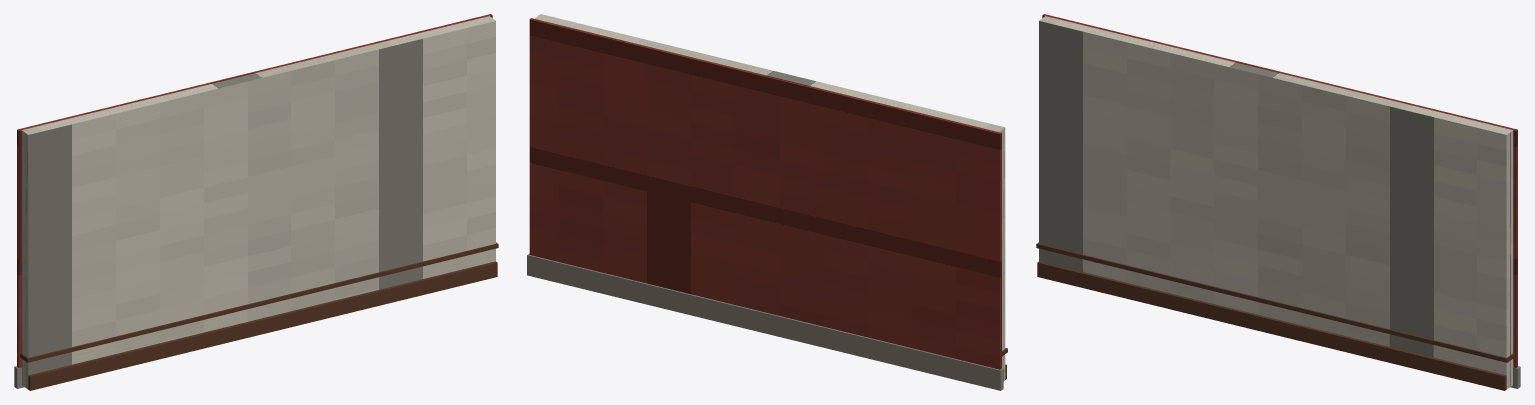
File: back.glb
3 views of the same model, side by side, from view 1: azimuth 30°, elevation 25°; view 2: azimuth 150°, elevation 25°; view 3: azimuth 330°, elevation 25° (orthographic).
Visible parts, largest first — view 1: Box1, Box2, Box6, Box5, Box3; view 2: Box3, Box4, Box1; view 3: Box1, Box2, Box5, Box6, Box3.
Part boxes in pixels (box(x1,y1,x2,y2)): Box1: box(21, 16, 495, 389); Box2: box(28, 261, 497, 390); Box6: box(20, 242, 498, 362); Box5: box(22, 251, 495, 388); Box3: box(17, 14, 492, 367); Box3: box(529, 18, 1001, 369); Box4: box(527, 253, 1003, 390); Box1: box(534, 14, 1005, 381); Box1: box(1039, 16, 1513, 389); Box2: box(1037, 261, 1506, 390); Box5: box(1040, 250, 1512, 389); Box6: box(1036, 242, 1514, 362); Box3: box(1042, 14, 1517, 367).
Bounding box in the file's own units: 6.27 × 3.24 × 0.25.
Materials: 4 (2 with a texture image).
